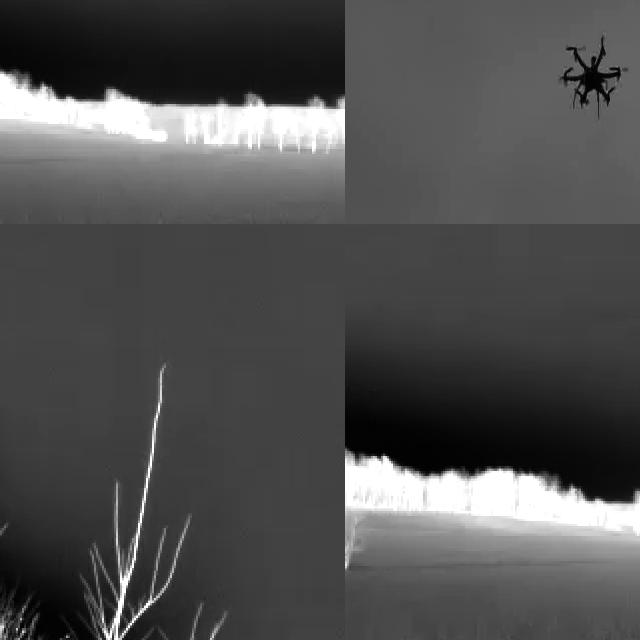drone: (555, 33, 621, 118)
